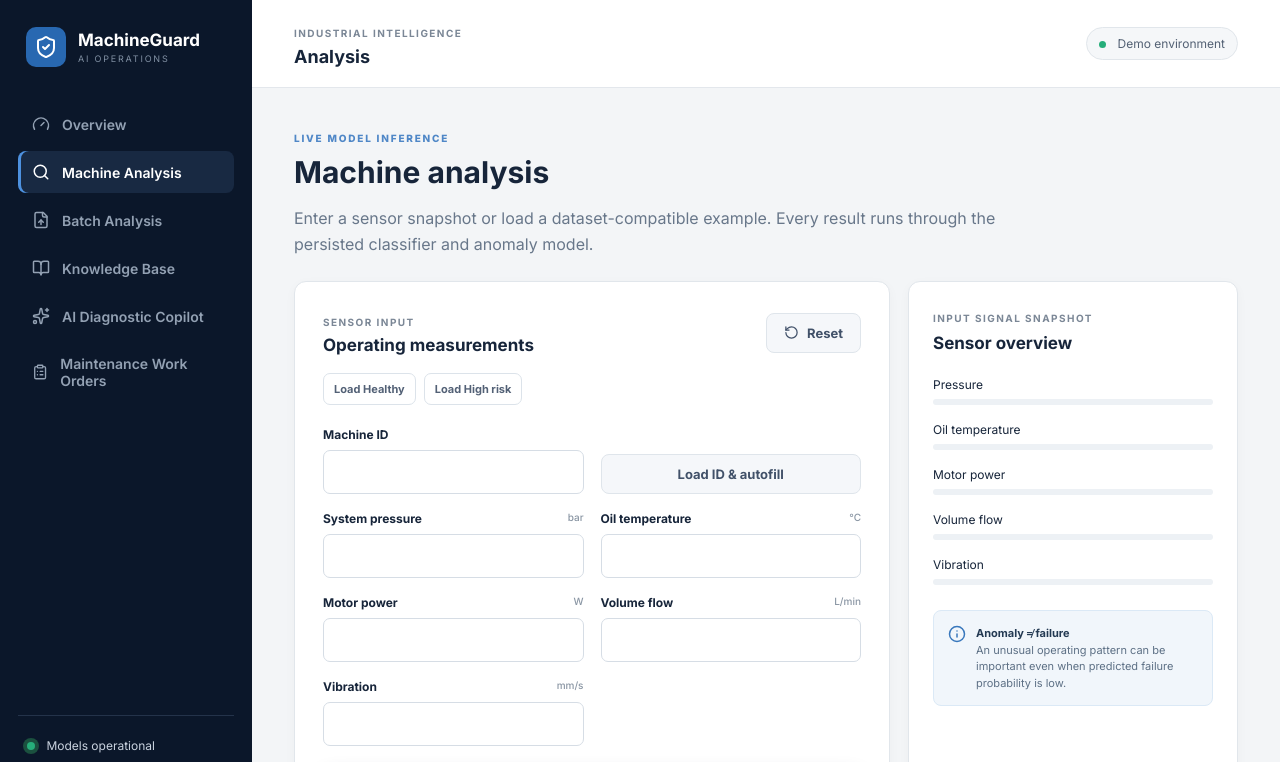
Test case: machine analysis › reset clears all form values and the previous result
This screenshot has width=1280, height=762.
Click the button "Load Healthy". click: (369, 389)
box: [323,373,416,405]
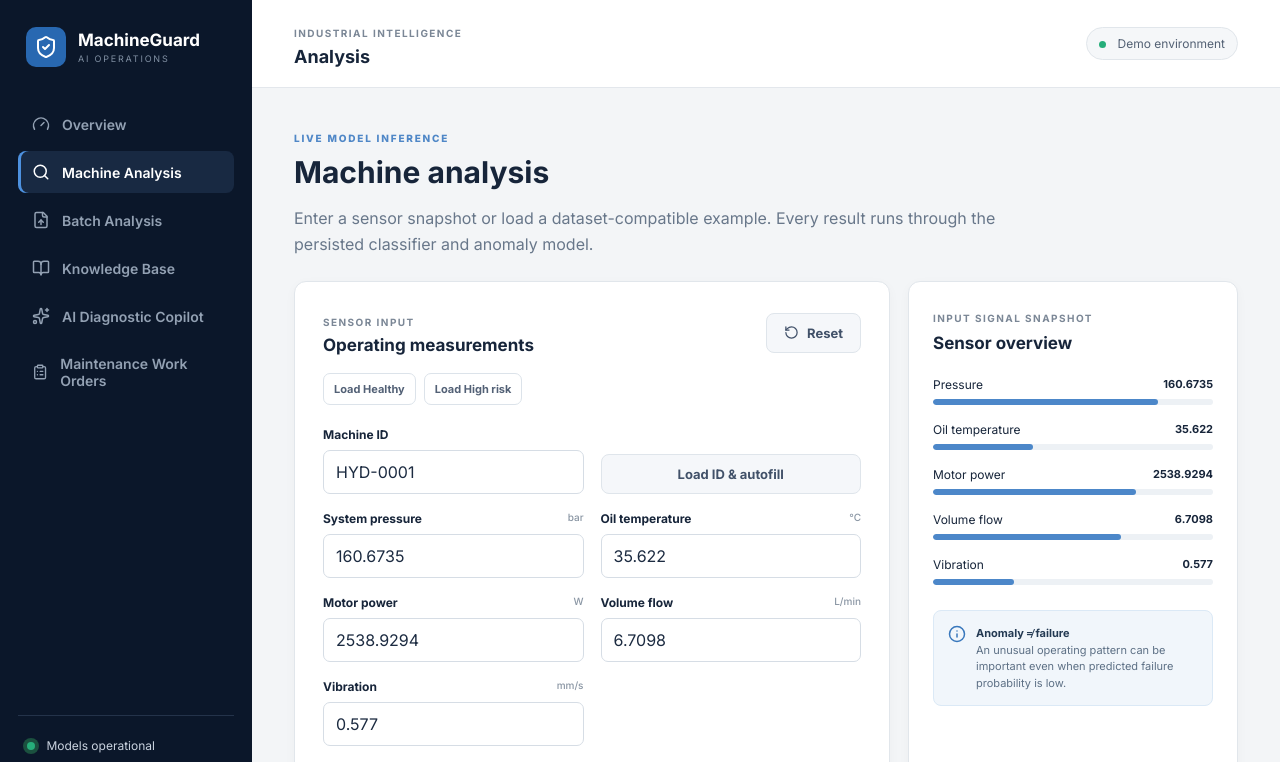
Expected: the field labelled "Machine ID" holds "HYD-0001", [323,450,584,494]
Click the button "Reset". click: (814, 333)
box: [766,313,861,353]
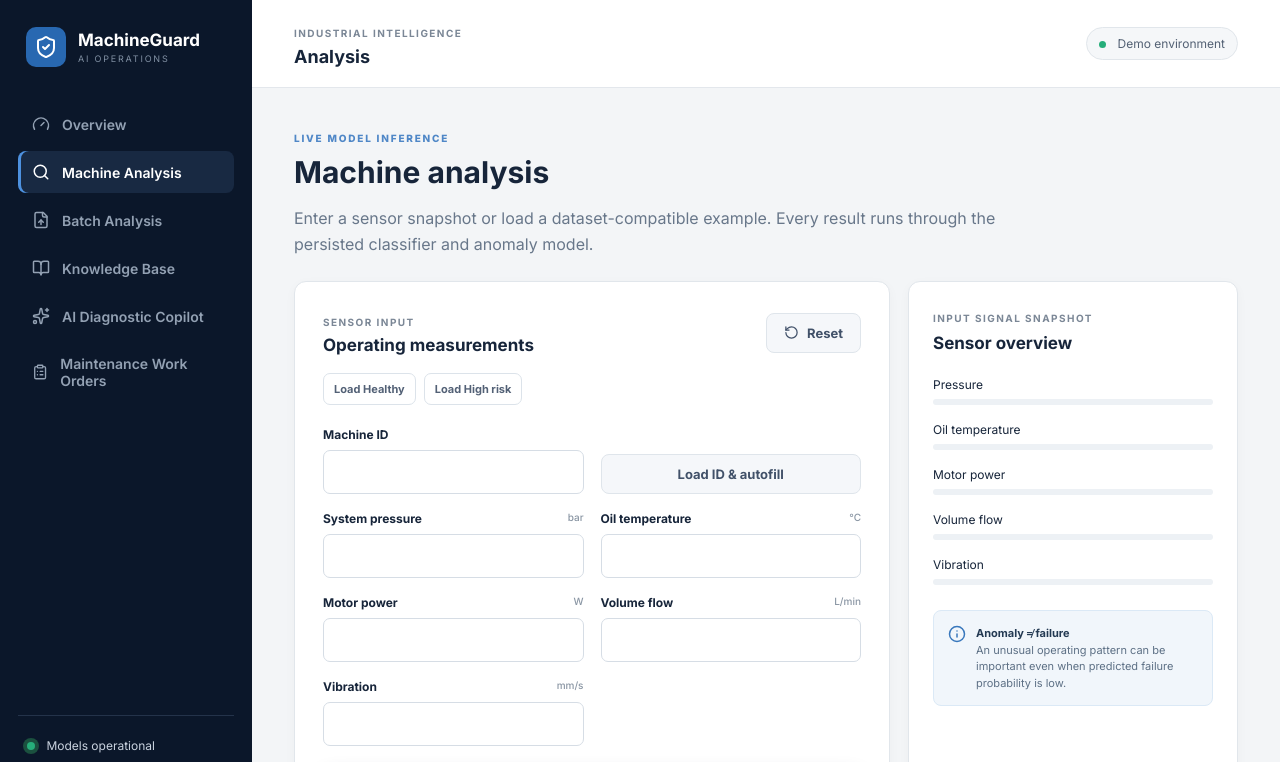
Expected: the field labelled "Machine ID" is empty, [323,450,584,494]
Expected: the number field labelled "System pressure bar" is not empty, [323,534,584,578]
